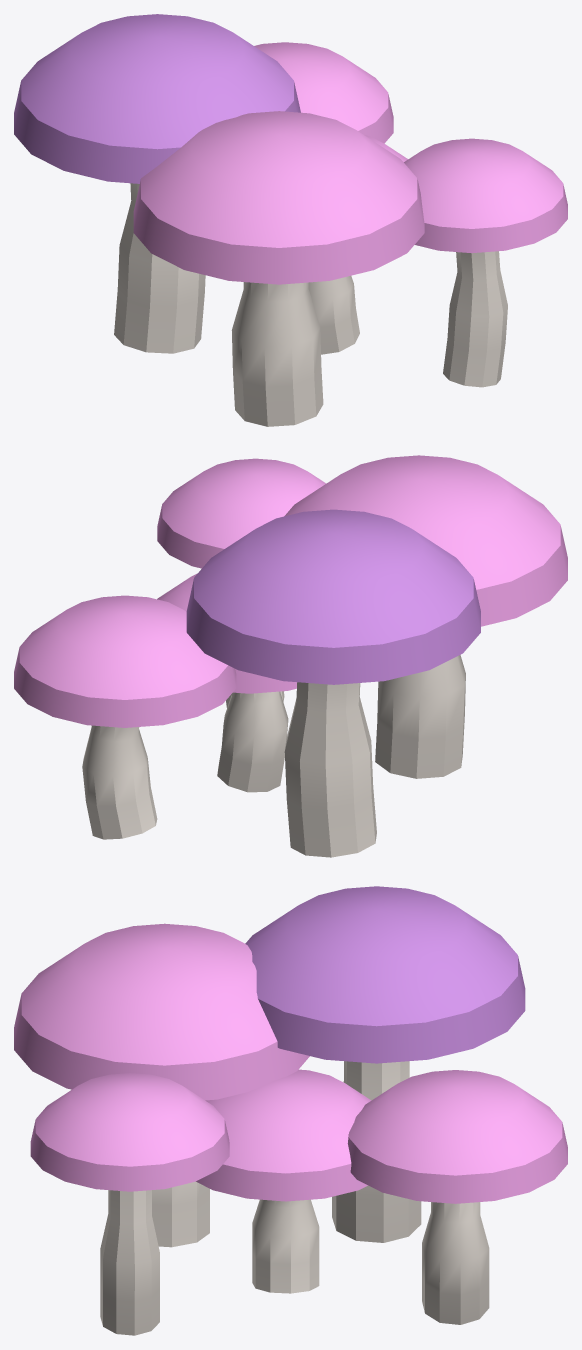
The model's file is SmallMushroom_Cluster.fbx.
3 views of the same model, one above another, from view 1: azimuth 30°, elevation 25°; view 2: azimuth 150°, elevation 25°; view 3: azimuth 270°, elevation 25° (orthographic). The views are drawn at different scales.
Visible parts, largest first — view 1: SmallMushroom_Cluster; view 2: SmallMushroom_Cluster; view 3: SmallMushroom_Cluster.
Boxes of the visible parts, bbox=[...] form: SmallMushroom_Cluster: bbox=[14, 14, 567, 426]; SmallMushroom_Cluster: bbox=[14, 455, 567, 857]; SmallMushroom_Cluster: bbox=[14, 886, 567, 1335].
Bounding box in the file's own units: 2.48 × 1.78 × 2.83.
